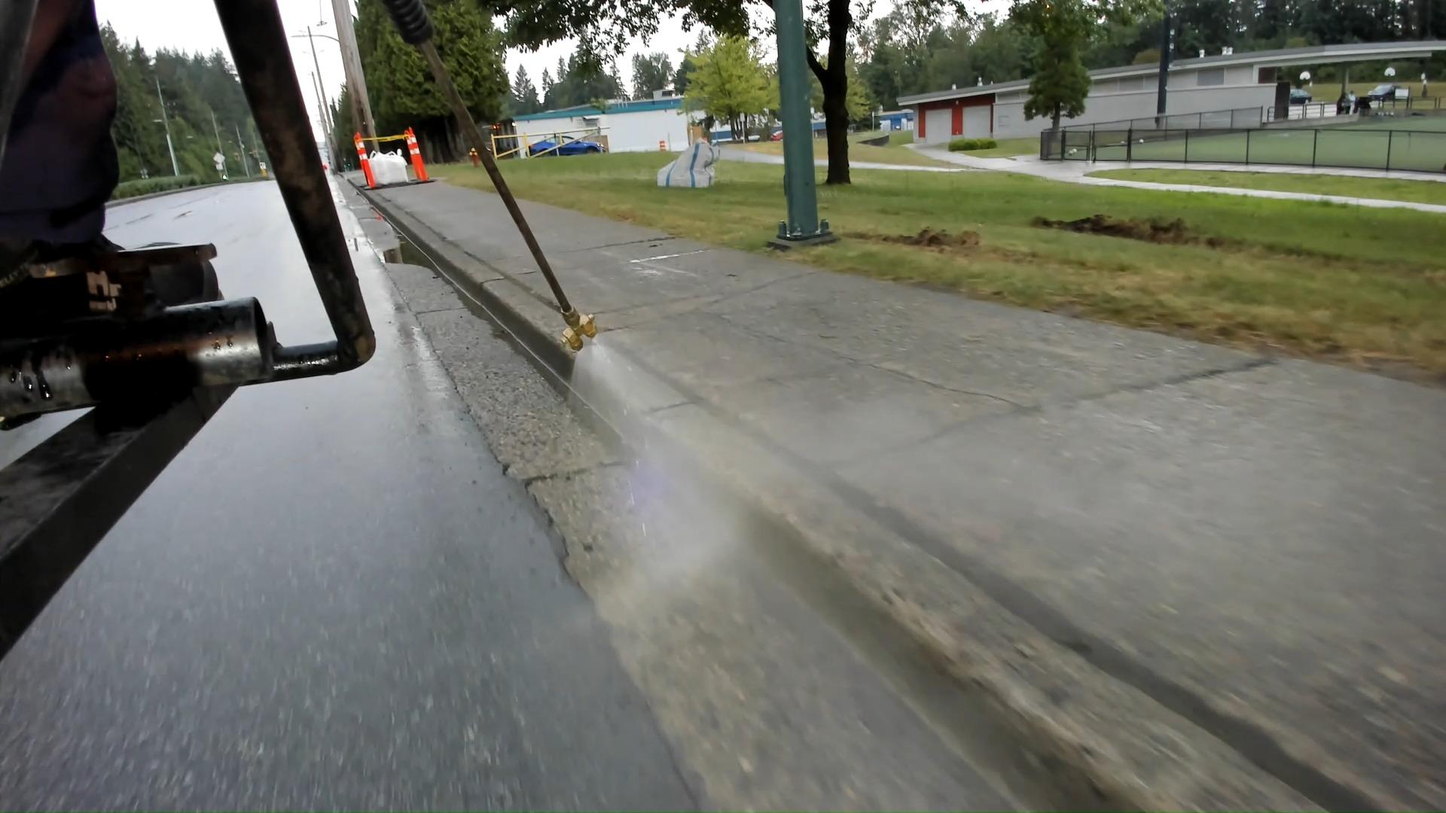weeds: (720, 405, 748, 431), (701, 396, 731, 420)
